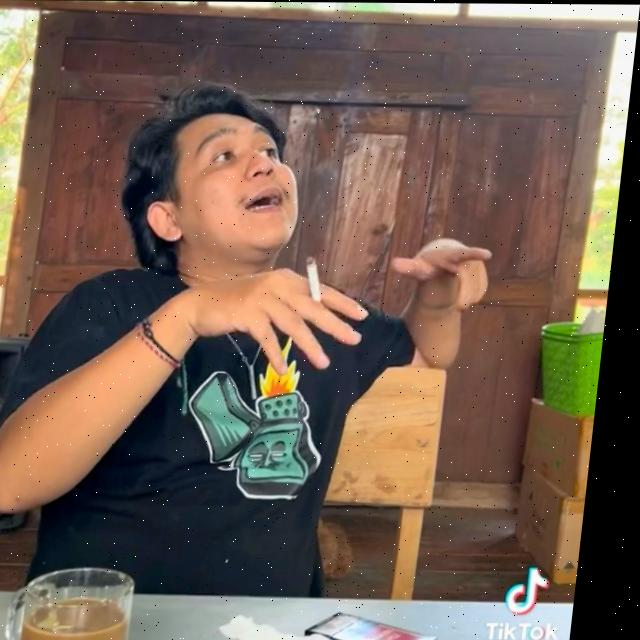cigarette: (308, 255, 331, 301)
